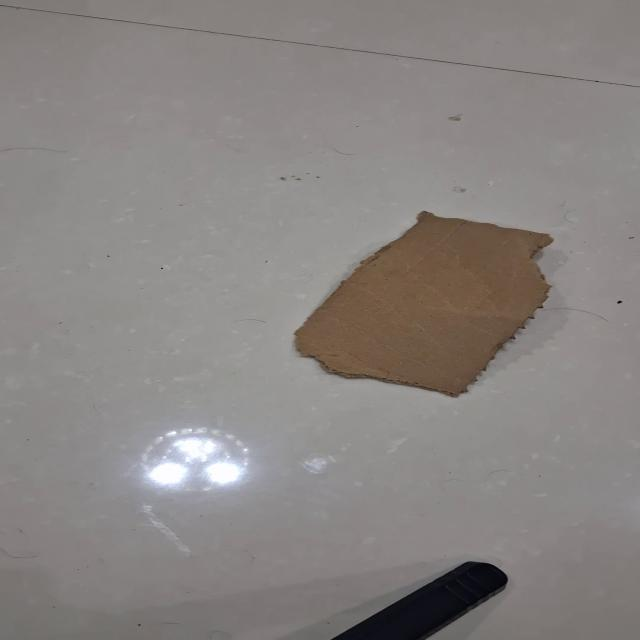paper: (292, 209, 554, 398)
